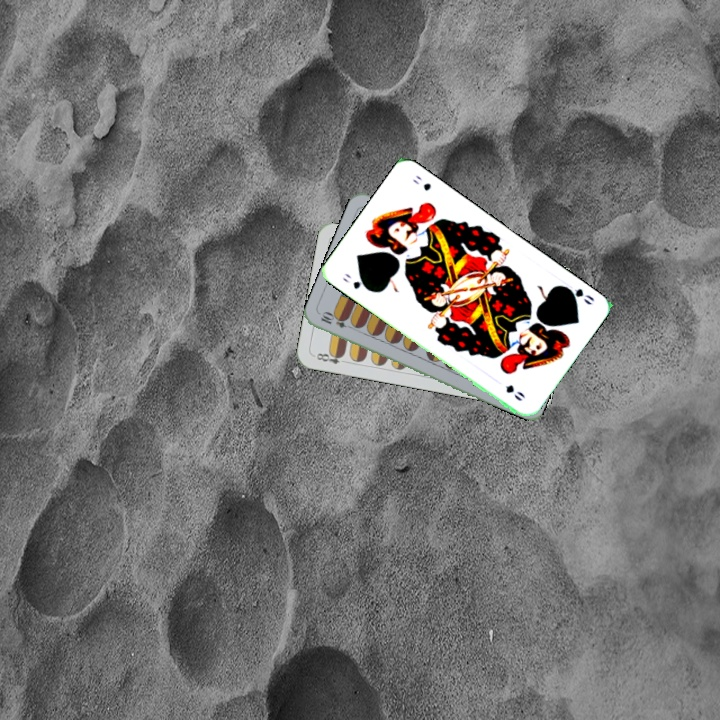E10: (317, 309, 357, 332)
E8: (310, 348, 350, 367)
GO: (559, 282, 597, 307), (338, 269, 373, 294)
